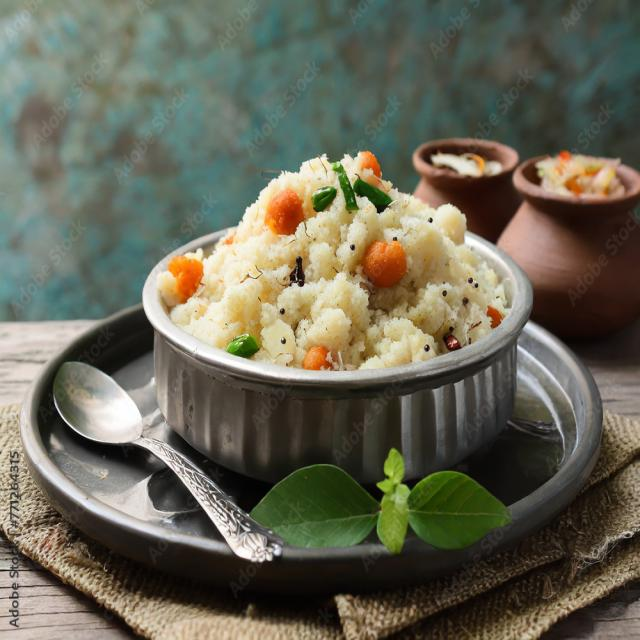UPMA: (152, 150, 523, 374)
